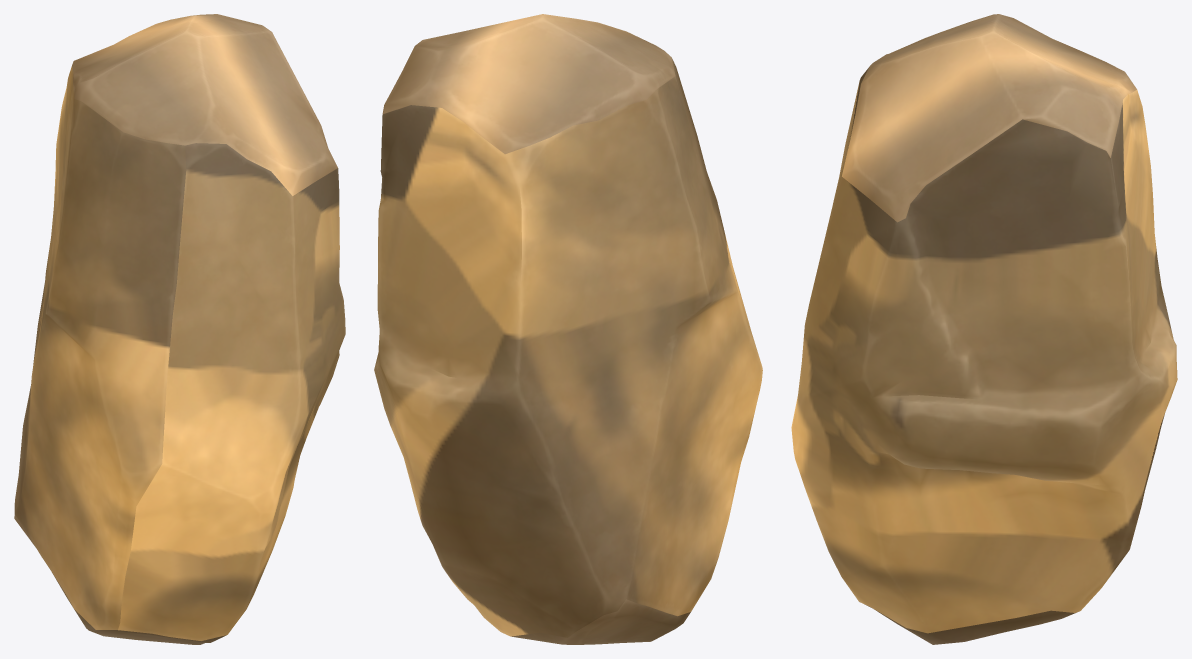
The model's file is SM_Rock_03.fbx.
The picture shows the model from 3 angles, left to right: view 1: azimuth 30°, elevation 25°; view 2: azimuth 150°, elevation 25°; view 3: azimuth 270°, elevation 25°; orthographic projection. The views are drawn at different scales.
Visible parts, largest first — view 1: SM_Rock_03_LOD0; view 2: SM_Rock_03_LOD0; view 3: SM_Rock_03_LOD0.
Part boxes in pixels (x1,y1,x2,y2): SM_Rock_03_LOD0: [14, 14, 345, 644]; SM_Rock_03_LOD0: [374, 14, 762, 644]; SM_Rock_03_LOD0: [791, 14, 1177, 644].
Bounding box in the file's own units: 170 × 204 × 361.
